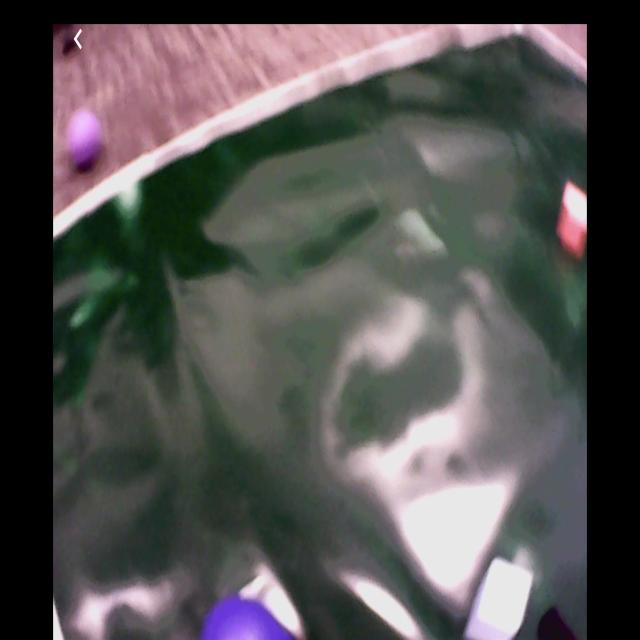ball: (199, 597, 293, 640), (70, 109, 102, 171)
